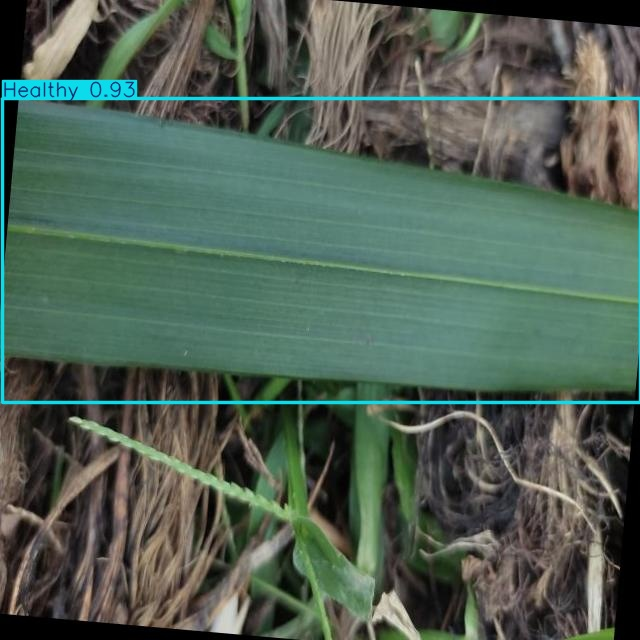Healthy: (3, 98, 640, 403)
